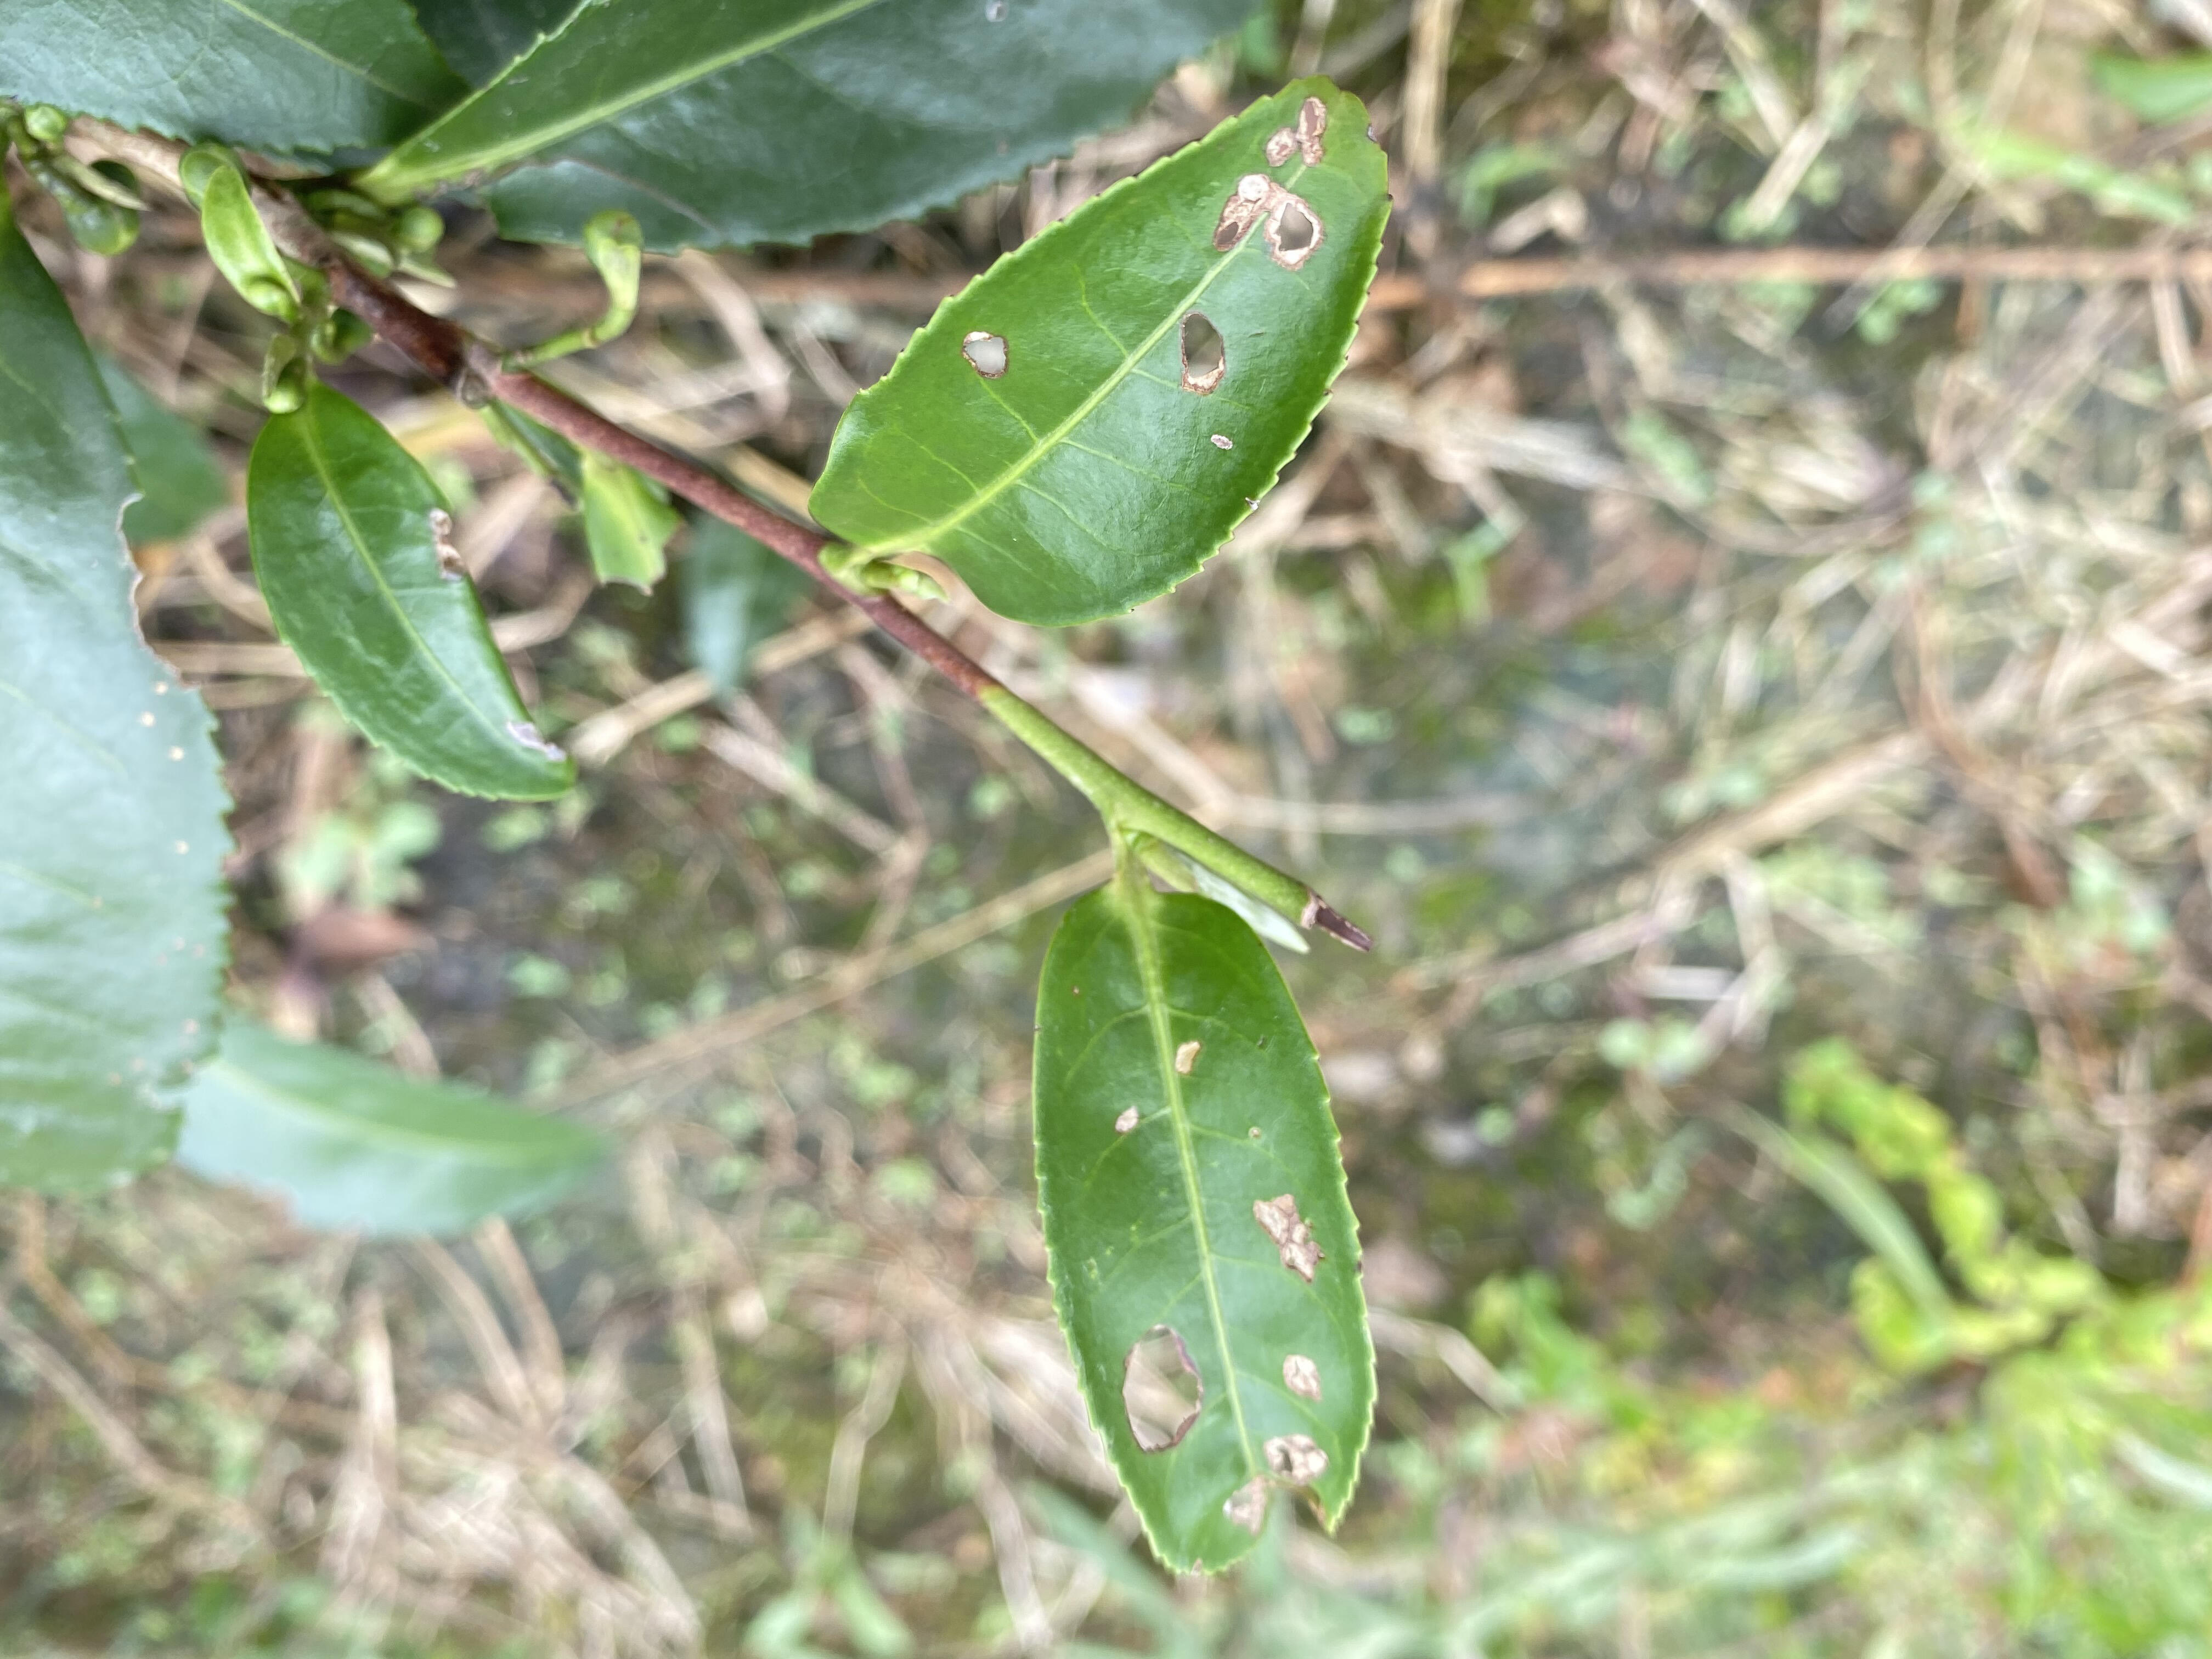chihuo_high: (810, 77, 1390, 624), (1035, 884, 1378, 1579)
chihuo_low: (5, 204, 233, 1194)
tanju_low: (244, 392, 578, 800)
